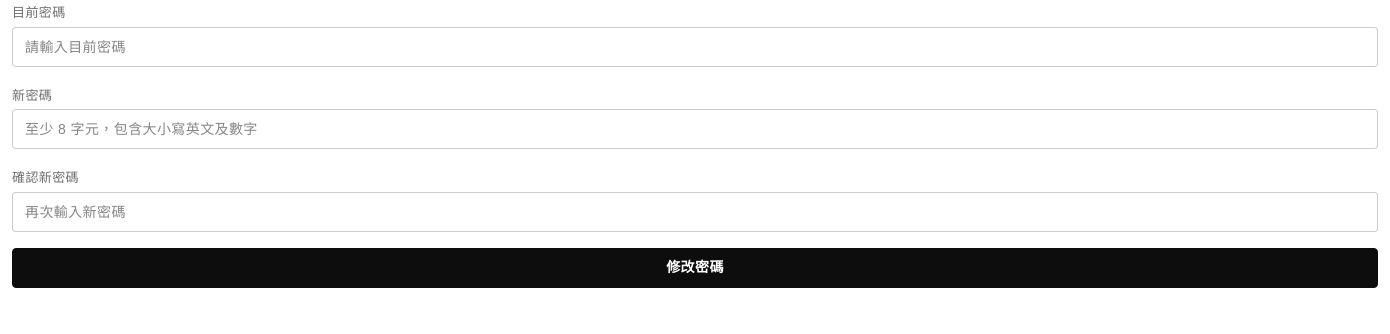
Test: ChangePasswordForm 元件 › 新密碼缺少大小寫或數字時顯示格式錯誤
The width and height of the screenshot is (1390, 334).
Type "oldPass123" into the password field labelled "目前密碼" at (695, 46), box [12,26,1378,66]
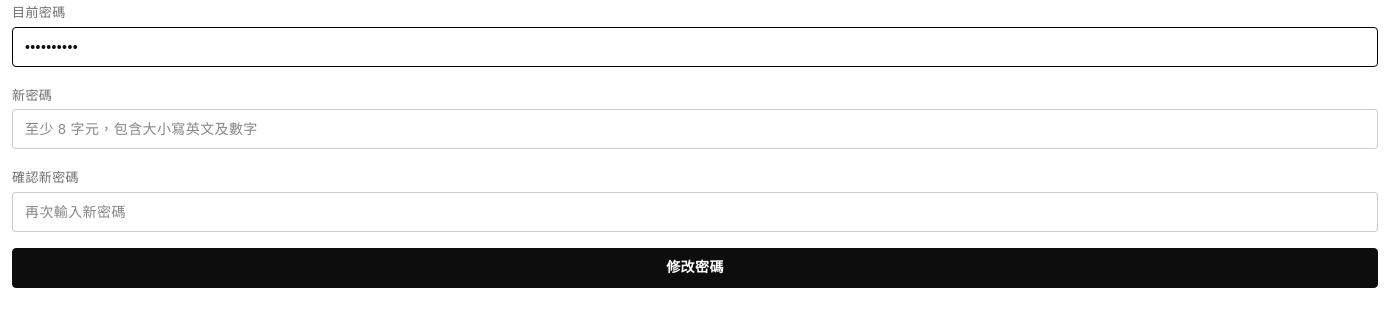
Type "abcdefgh" into the password field labelled "新密碼" at (695, 129), box [12,109,1378,149]
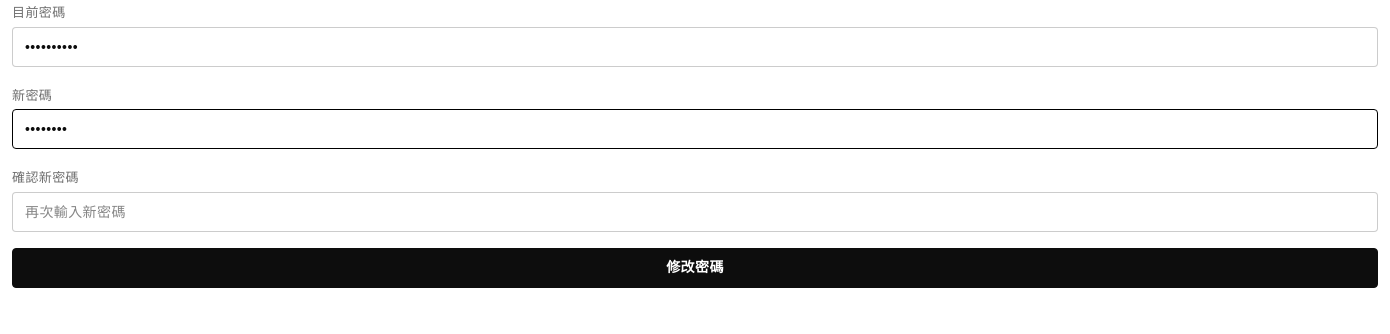
Type "abcdefgh" into the password field labelled "確認新密碼" at (695, 212), box [12,192,1378,232]
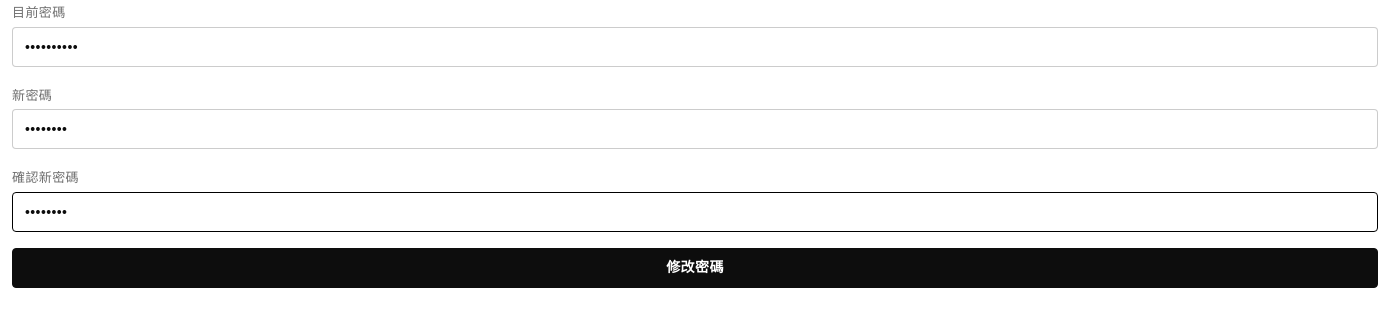
Click the button "修改密碼" at (695, 268), box [12,248,1378,288]
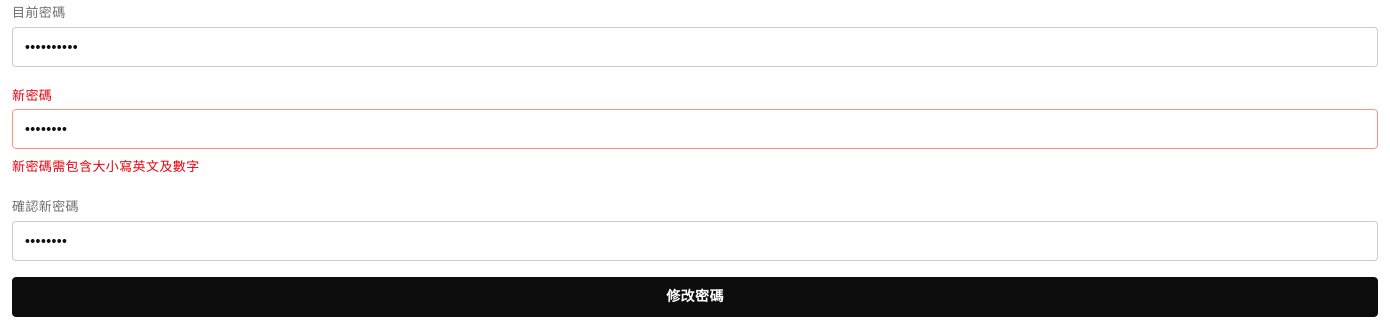
Now the text "新密碼需包含大小寫英文及數字" is shown, box [12,157,200,176]
